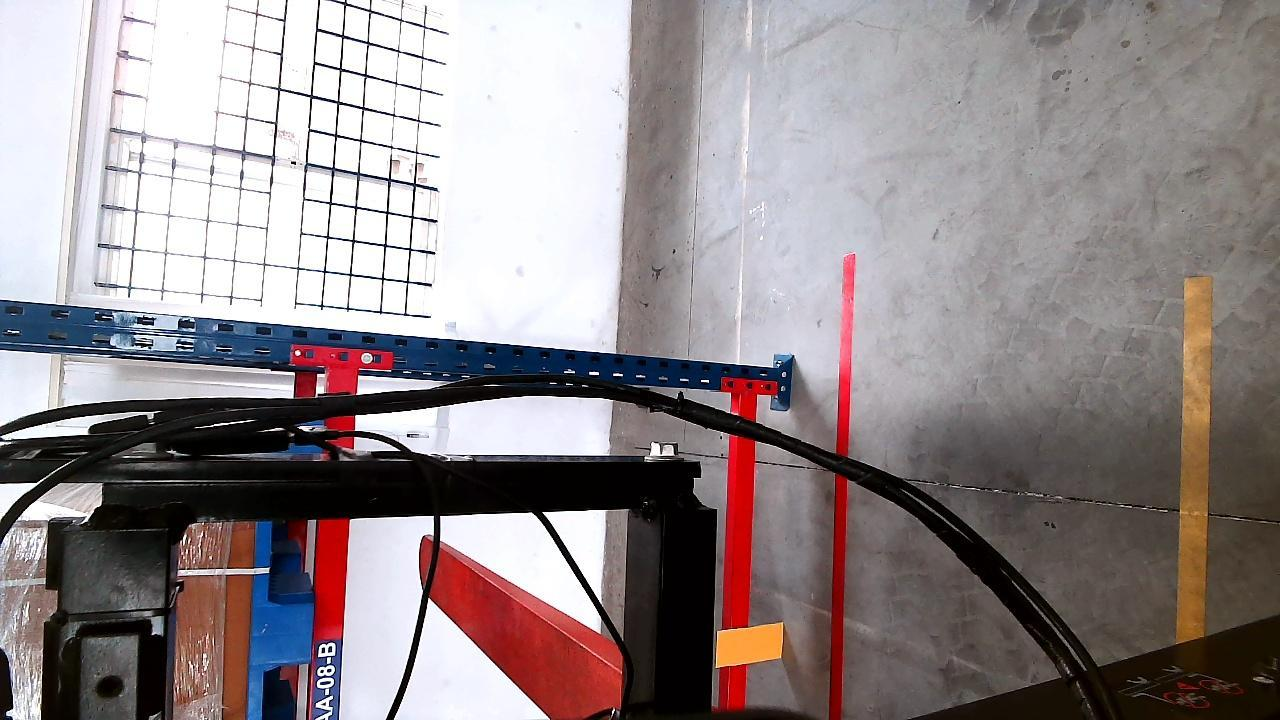red_line: (827, 253, 859, 720)
yellow_line: (1177, 266, 1214, 648)
